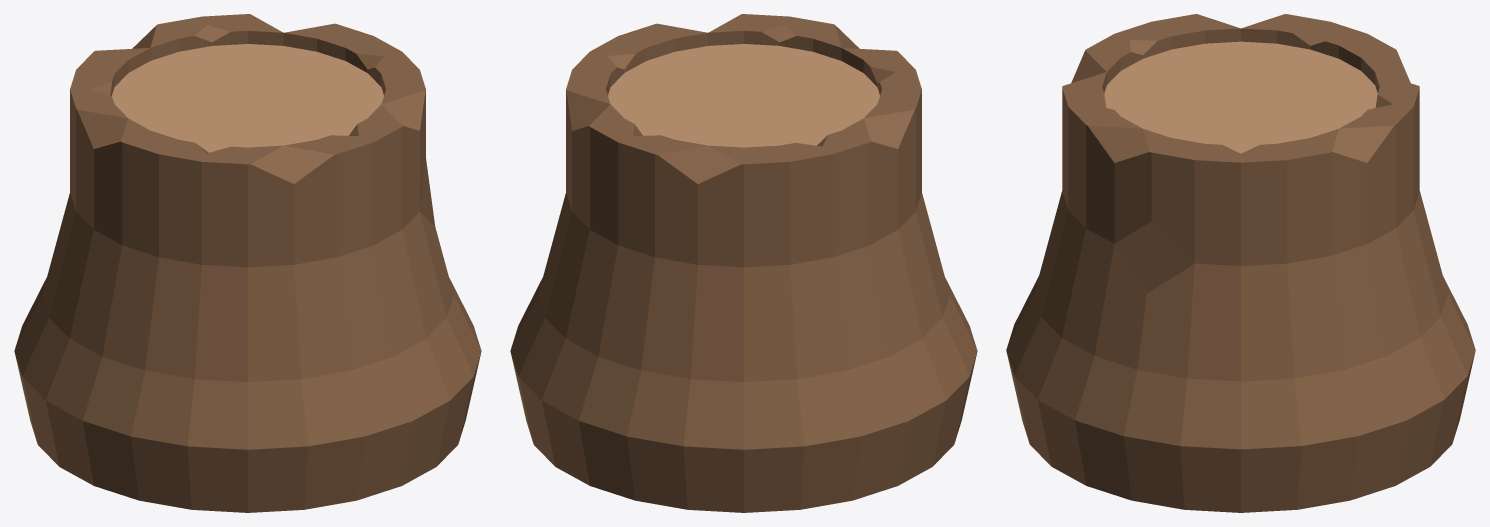
File: env-tree-cut.fbx
3 renders of one model, left to right at view 1: azimuth 30°, elevation 25°; view 2: azimuth 150°, elevation 25°; view 3: azimuth 270°, elevation 25°, orthographic.
Visible parts, largest first — view 1: Cylinder.230; view 2: Cylinder.230; view 3: Cylinder.230.
Part boxes in pixels (x1=…): Cylinder.230: x1=14, y1=14, x2=481, y2=512; Cylinder.230: x1=510, y1=14, x2=977, y2=512; Cylinder.230: x1=1006, y1=14, x2=1475, y2=512.
Size of the model in its own units: 87.11 by 68.26 by 87.11.
